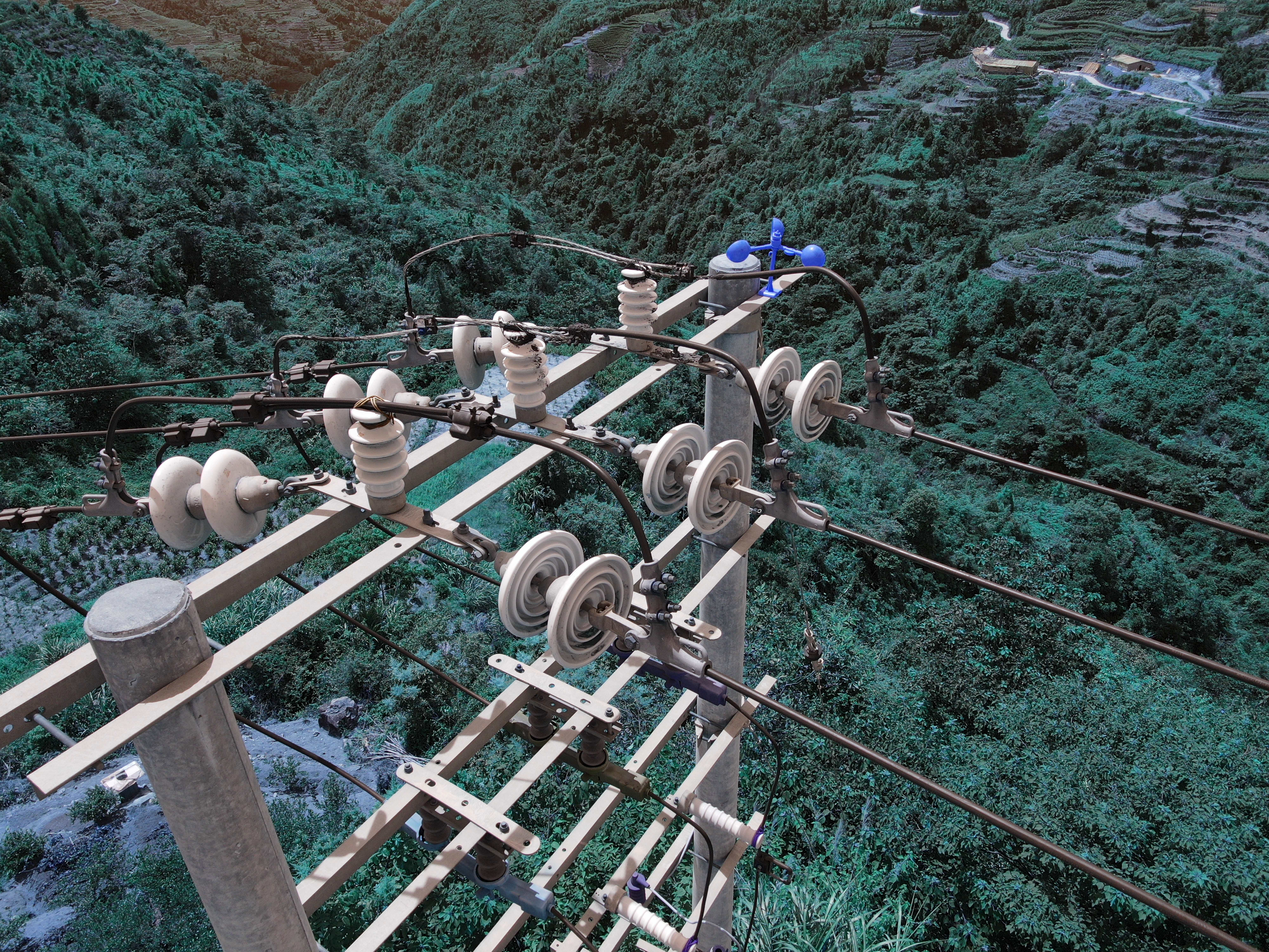severe_soiling_no_discharge_whole: (491, 524, 637, 670), (630, 420, 752, 534), (733, 347, 842, 443), (498, 320, 552, 423), (617, 259, 660, 352)
